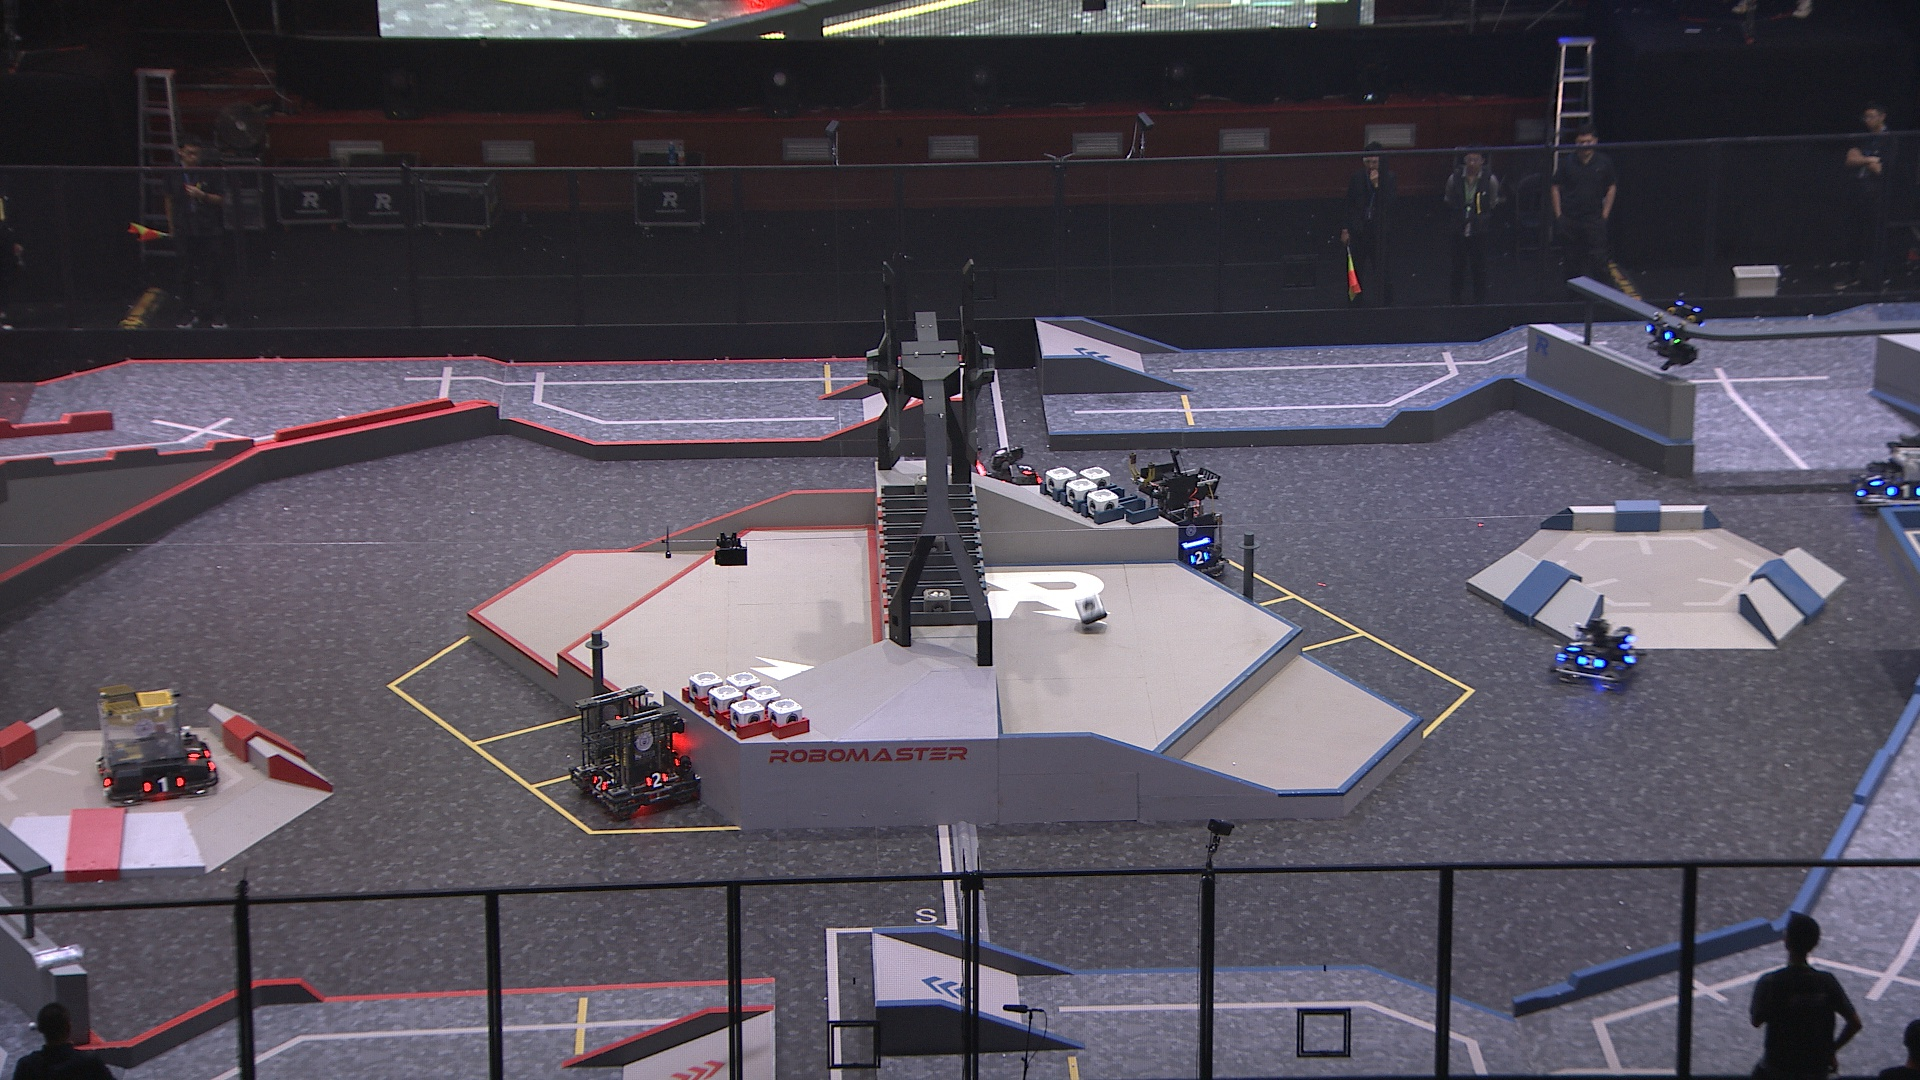armor: (140, 773, 189, 796), (1644, 320, 1673, 343), (1883, 481, 1920, 498), (644, 769, 671, 790), (1575, 654, 1607, 670), (589, 773, 611, 796), (183, 737, 204, 760), (1621, 645, 1640, 669), (1863, 469, 1884, 489), (1565, 636, 1586, 655), (1187, 550, 1211, 567), (1015, 460, 1034, 476)
car: (571, 675, 707, 822), (92, 684, 225, 812), (1134, 447, 1228, 585), (964, 446, 1058, 522), (1551, 618, 1643, 690), (1851, 433, 1920, 520)
watcher: (1640, 285, 1706, 371)
